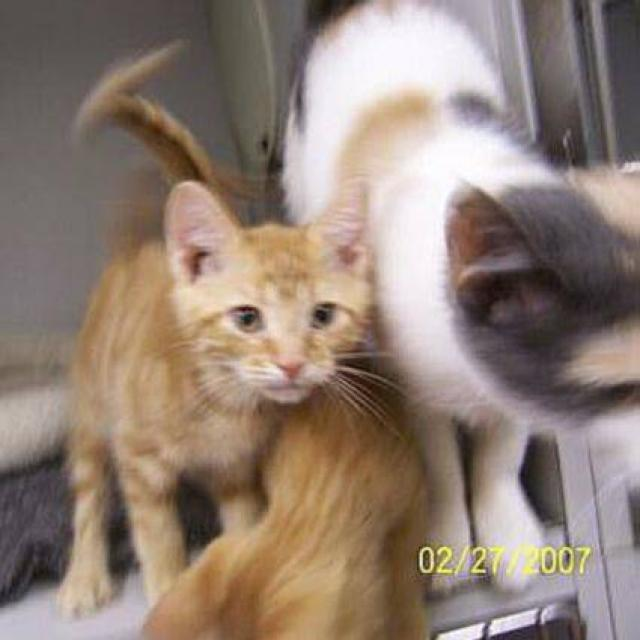cat: (56, 36, 432, 638), (278, 0, 638, 592)
